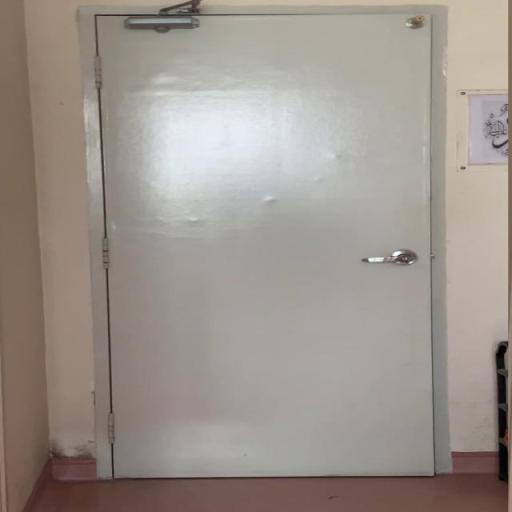door: (93, 6, 438, 480)
